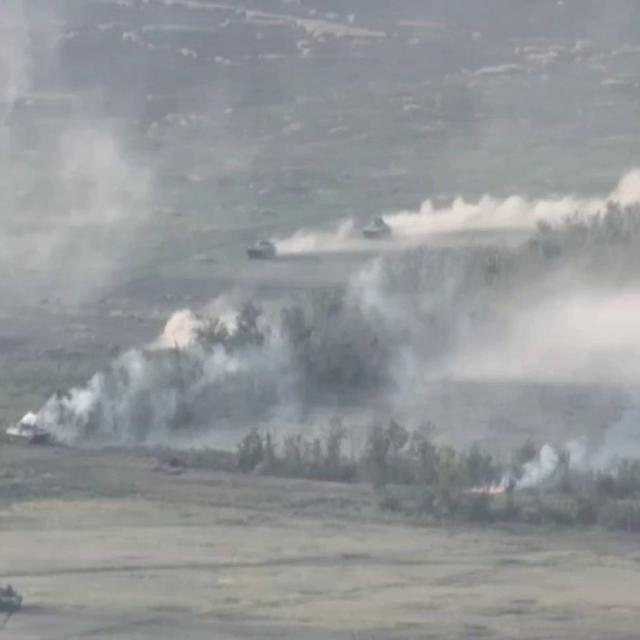AIFV: (6, 417, 52, 446), (247, 236, 280, 266), (360, 216, 397, 242)
MBT: (1, 583, 30, 617)
